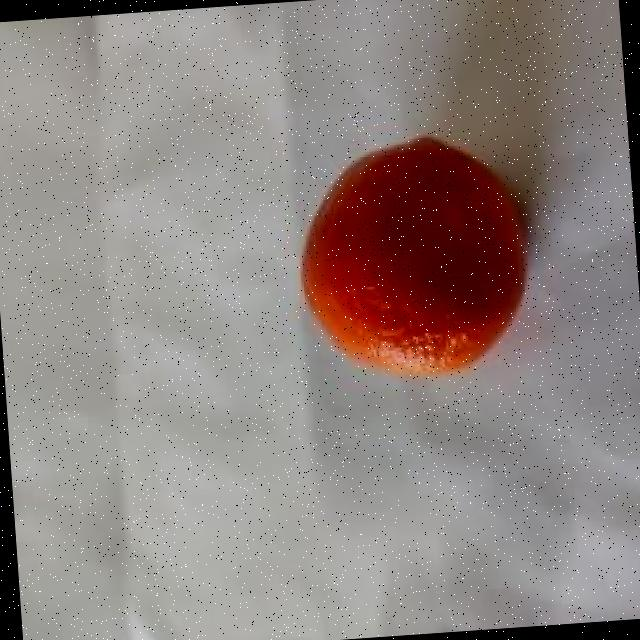overripe: (287, 120, 536, 384)
